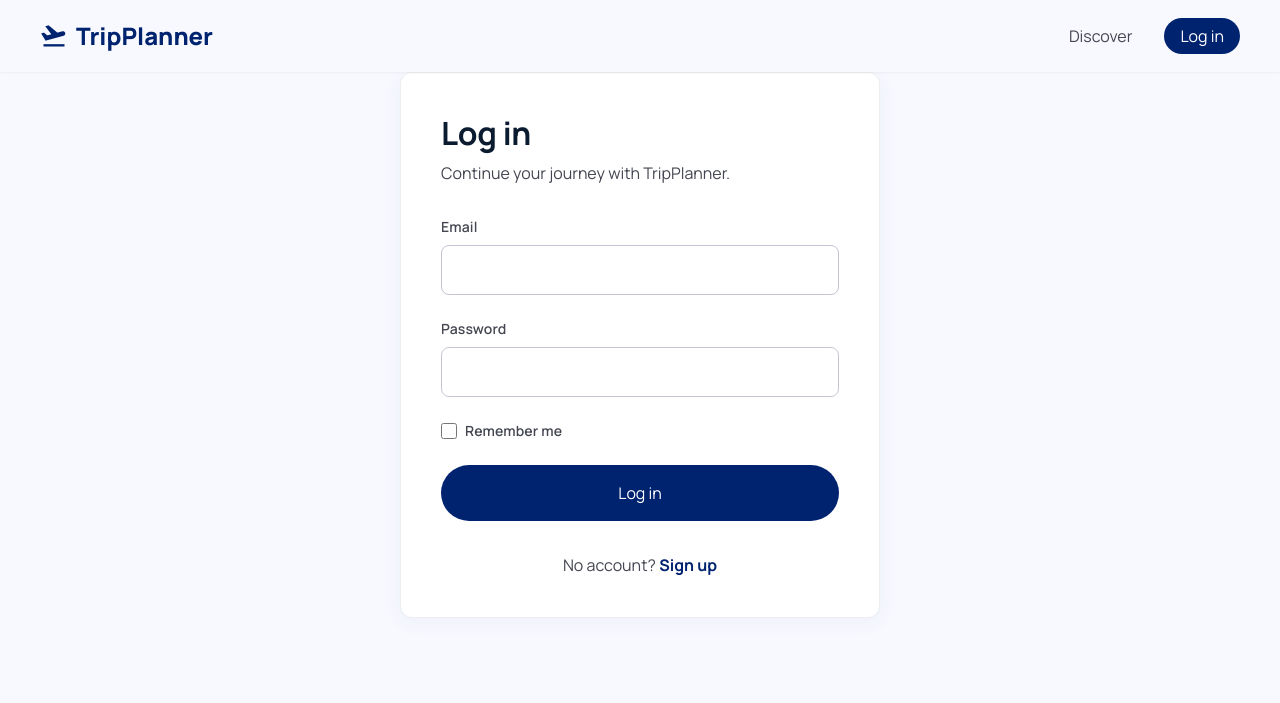
Scenario: TripsPage › login-redirect-and-back (F3-US8 AC2) › redirects to /login when trying to view/create trips while logged out, then returns to /trips
The image size is (1280, 703).
expect the heading "Log in" is shown: met, box [441,111,531,155]
In the field labelled "Email": (640, 270) [441,245,839,295], type "jane@example.com"
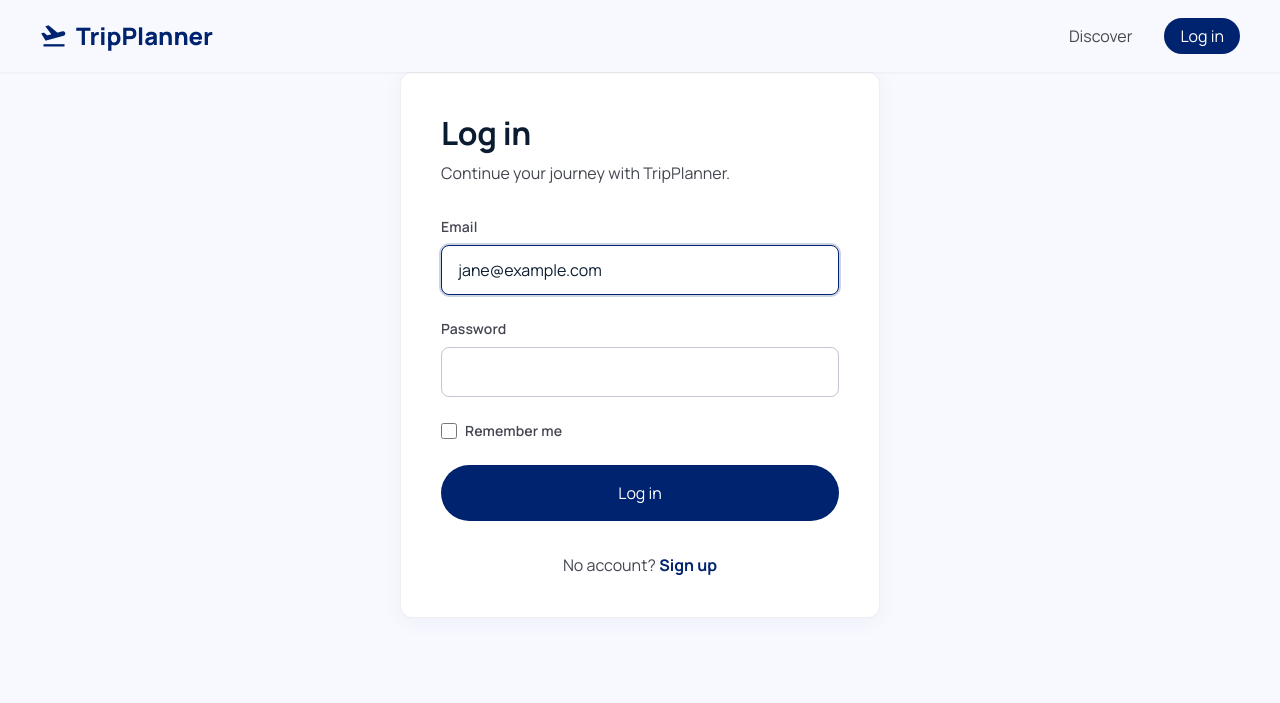
In the password field labelled "Password": (640, 372) [441,347,839,397], type "Secret123!"
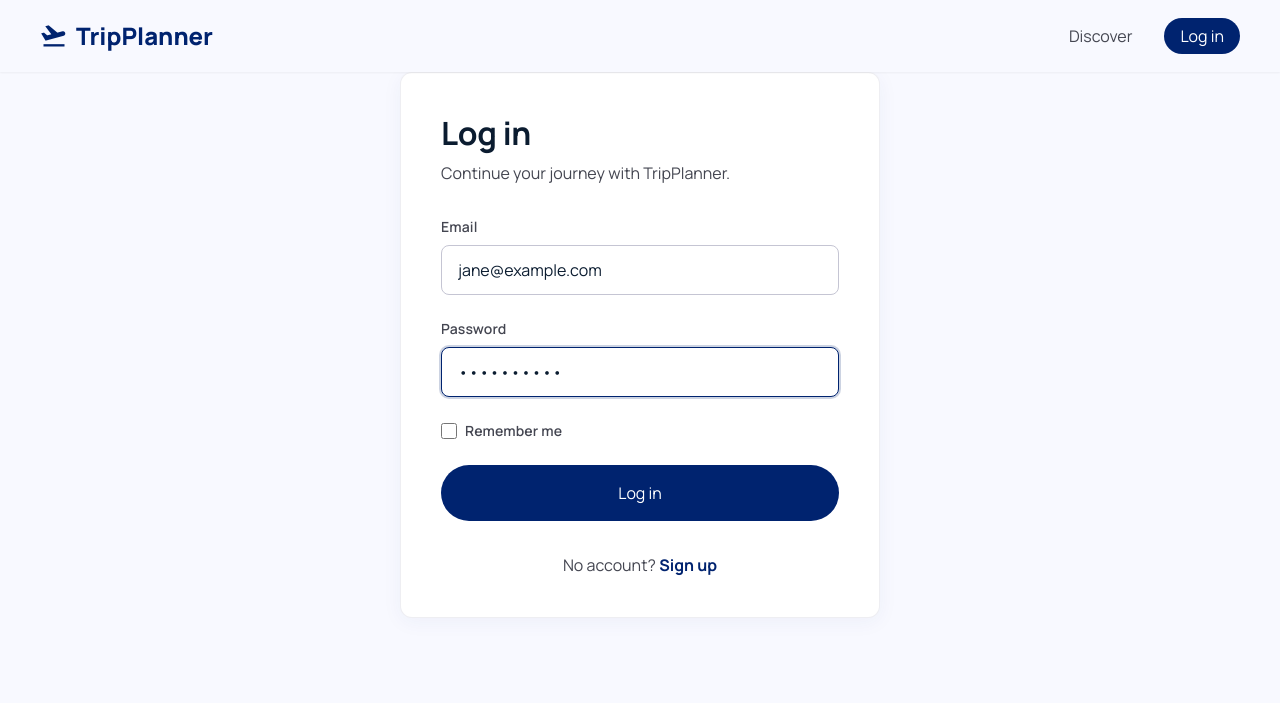
Click the button "Log in": (640, 493) [441,465,839,521]
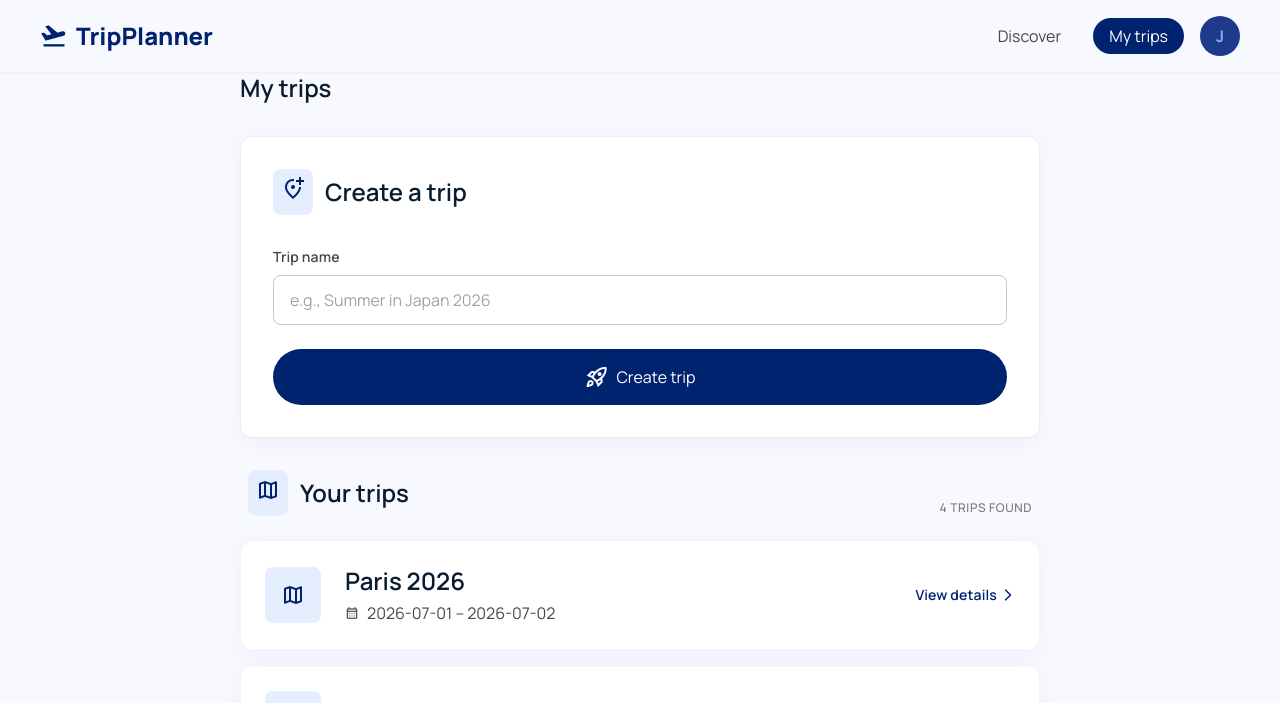
expect the heading "My trips" is shown: met, box [240,71,331,104]
